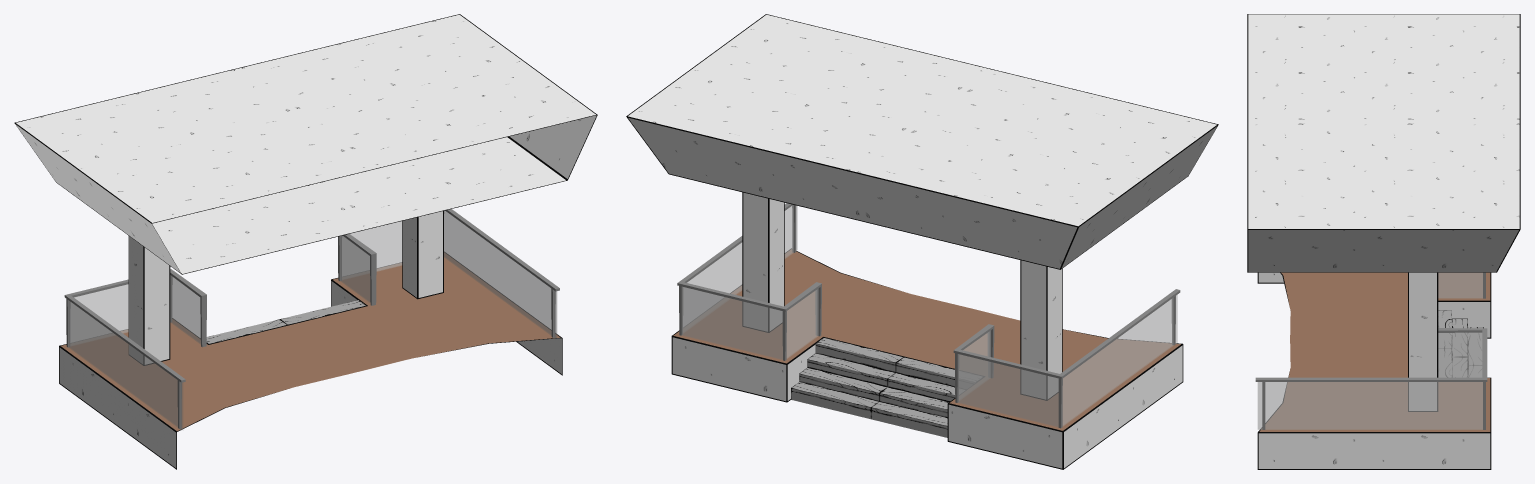
The model's file is Lvl1.BossEntry.fbx.
The picture shows the model from 3 angles, left to right: view 1: azimuth 30°, elevation 25°; view 2: azimuth 150°, elevation 25°; view 3: azimuth 270°, elevation 25°; orthographic projection. The views are drawn at different scales.
Parts seen in each view (by area): view 1: Cube.031; view 2: Cube.031; view 3: Cube.031.
Boxes of the visible parts, left/top/right/bottom form: Cube.031: left=14, top=14, right=597, bottom=469; Cube.031: left=626, top=14, right=1218, bottom=469; Cube.031: left=1247, top=14, right=1520, bottom=469.
Size of the model in its own units: 950 by 524 by 509.
